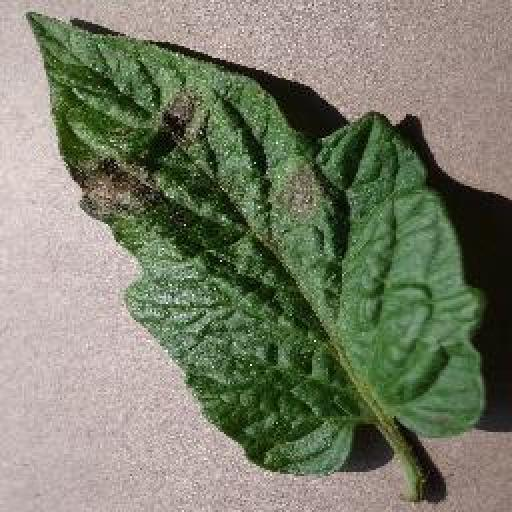Late Blight: (26, 7, 490, 476)
